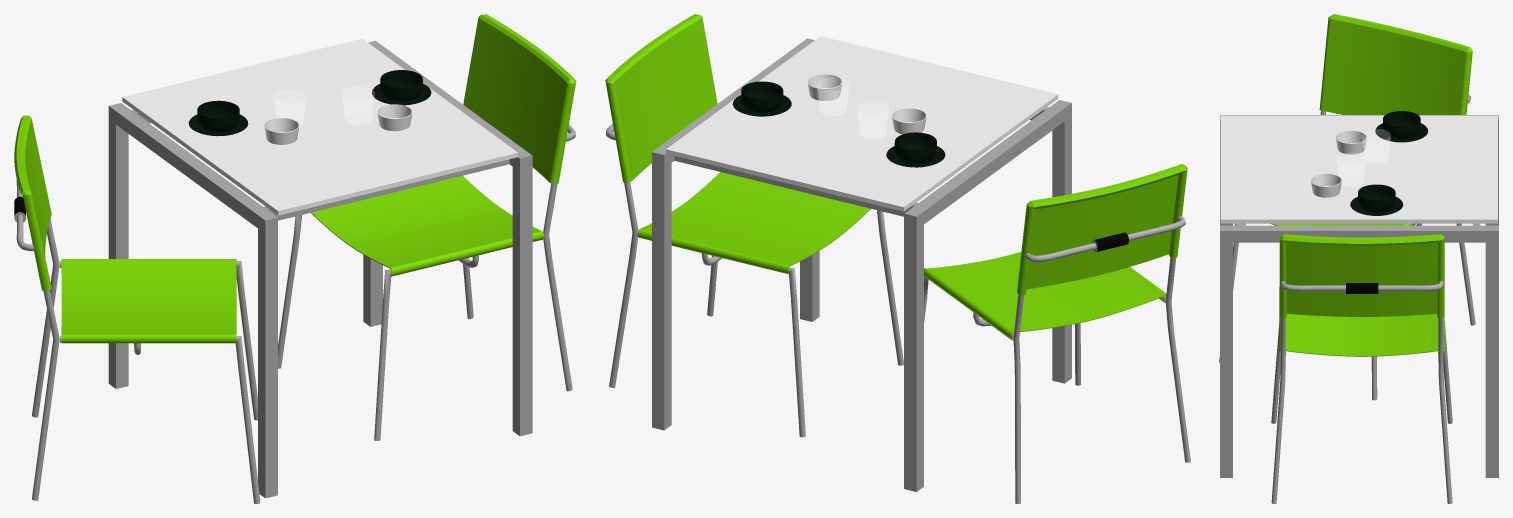
Rendered from Morist_Table_And_Chairs-3D.DAE.
The picture shows the model from 3 angles, left to right: view 1: azimuth 30°, elevation 25°; view 2: azimuth 150°, elevation 25°; view 3: azimuth 270°, elevation 25°; orthographic projection. The views are drawn at different scales.
Parts seen in each view (by area): view 1: Box01, Line02, Line03, Rectangle04, Rectangle01, Cylinder04, Cylinder05, Cylinder01, Cylinder06; view 2: Box01, Line02, Line03, Rectangle01, Rectangle04, Cylinder05, Cylinder04, Cylinder01, Cylinder06; view 3: Box01, Line02, Line03, Rectangle01, Rectangle04, Cylinder05, Cylinder04, Cylinder06, Cylinder01, Rectangle02, Rectangle03.
Boxes of the visible parts, x1,y1,x2,y2 form: Box01: (108, 38, 532, 498); Line02: (278, 14, 576, 440); Line03: (14, 115, 260, 503); Rectangle04: (197, 100, 239, 132); Rectangle01: (380, 70, 422, 101); Cylinder04: (342, 87, 374, 124); Cylinder05: (274, 90, 305, 125); Cylinder01: (377, 104, 412, 131); Cylinder06: (264, 118, 299, 144); Box01: (652, 36, 1071, 491); Line02: (605, 14, 903, 437); Line03: (924, 164, 1190, 503); Rectangle01: (741, 81, 783, 112); Rectangle04: (894, 132, 936, 163); Cylinder05: (857, 101, 888, 138); Cylinder04: (817, 78, 848, 115); Cylinder01: (807, 74, 842, 100); Cylinder06: (892, 108, 926, 134); Box01: (1220, 115, 1498, 477); Line02: (1271, 234, 1452, 503); Line03: (1219, 14, 1475, 400); Rectangle01: (1358, 184, 1395, 212); Rectangle04: (1383, 111, 1420, 138); Cylinder05: (1362, 129, 1390, 163); Cylinder04: (1337, 153, 1365, 186); Cylinder06: (1336, 130, 1366, 154); Cylinder01: (1311, 173, 1341, 197); Rectangle02: (1350, 196, 1403, 215); Rectangle03: (1375, 123, 1428, 142).
Size of the model in its own units: 1486 by 838 by 760.
